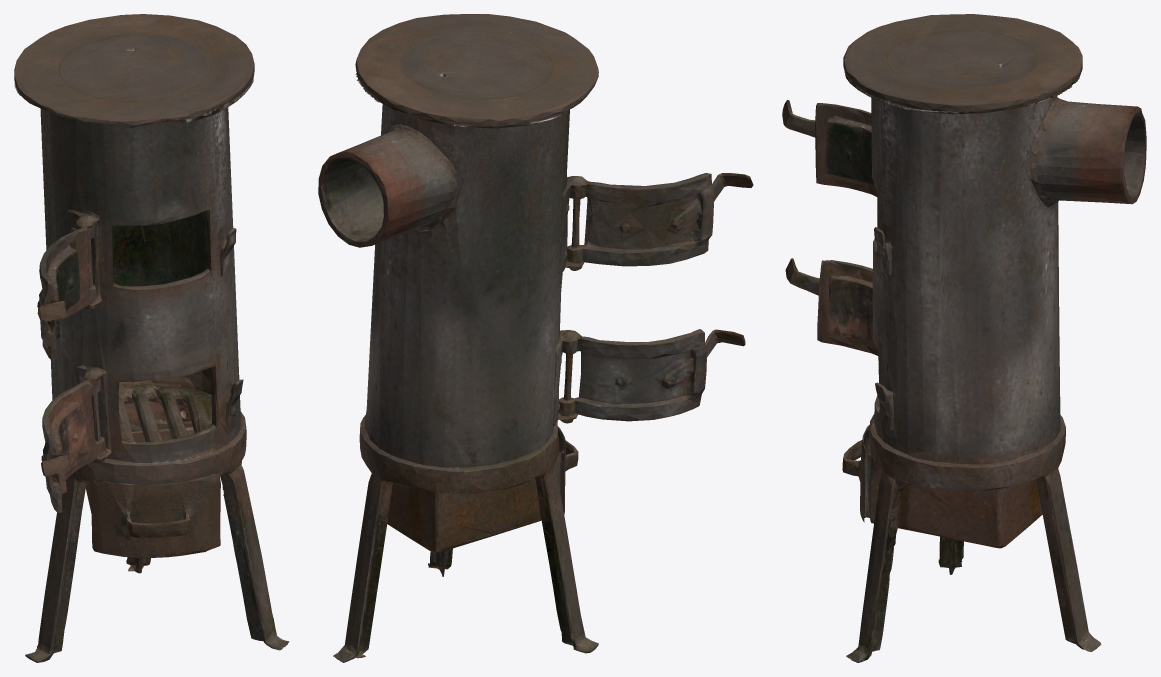
Rendered from 6420F1C4-1A3D-604E-8D42-9D9C5CDA2A9E_512.glb.
3 renders of one model, left to right at view 1: azimuth 30°, elevation 25°; view 2: azimuth 150°, elevation 25°; view 3: azimuth 270°, elevation 25°, orthographic.
Visible parts, largest first — view 1: Ofen_Korpus_8k_0.5k; view 2: Ofen_Korpus_8k_0.5k; view 3: Ofen_Korpus_8k_0.5k.
Boxes of the visible parts, x1,y1,x2,y2 form: Ofen_Korpus_8k_0.5k: (14, 14, 289, 662); Ofen_Korpus_8k_0.5k: (318, 14, 753, 662); Ofen_Korpus_8k_0.5k: (782, 14, 1146, 662).
Bounding box in the file's own units: 0.3949 × 0.7358 × 0.434.
Materials: 3 (3 with a texture image).
